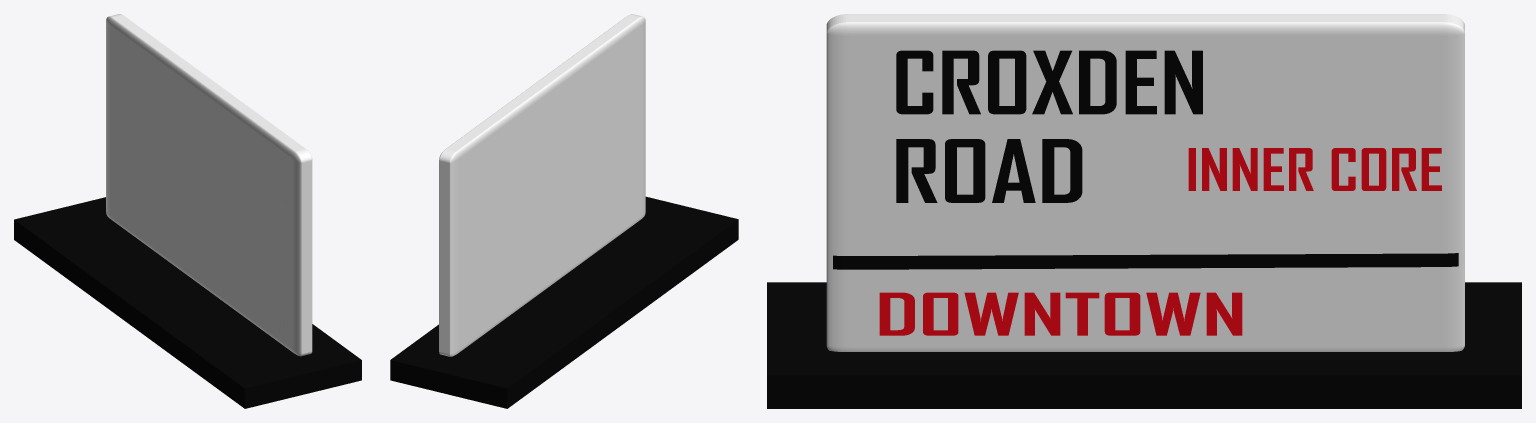
Rendered from uk_styled_street_sign_70.fbx.
3 views of the same model, side by side, from view 1: azimuth 30°, elevation 25°; view 2: azimuth 150°, elevation 25°; view 3: azimuth 270°, elevation 25° (orthographic). The views are drawn at different scales.
Parts seen in each view (by area): view 1: Cube, Cube.001; view 2: Cube, Cube.001; view 3: Cube, Cube.001, Text, Text.002, Text.001, Text.003.
Part boxes in pixels (x1,y1,x2,y2): Cube: (106, 14, 312, 356); Cube.001: (14, 197, 361, 408); Cube: (439, 14, 645, 356); Cube.001: (390, 196, 738, 408); Cube: (826, 14, 1464, 351); Cube.001: (767, 282, 1521, 408); Text: (896, 50, 1202, 114); Text.002: (879, 292, 1242, 335); Text.001: (896, 139, 1082, 202); Text.003: (1188, 148, 1441, 190).
Size of the model in its own units: 12 by 21.71 by 41.07.
